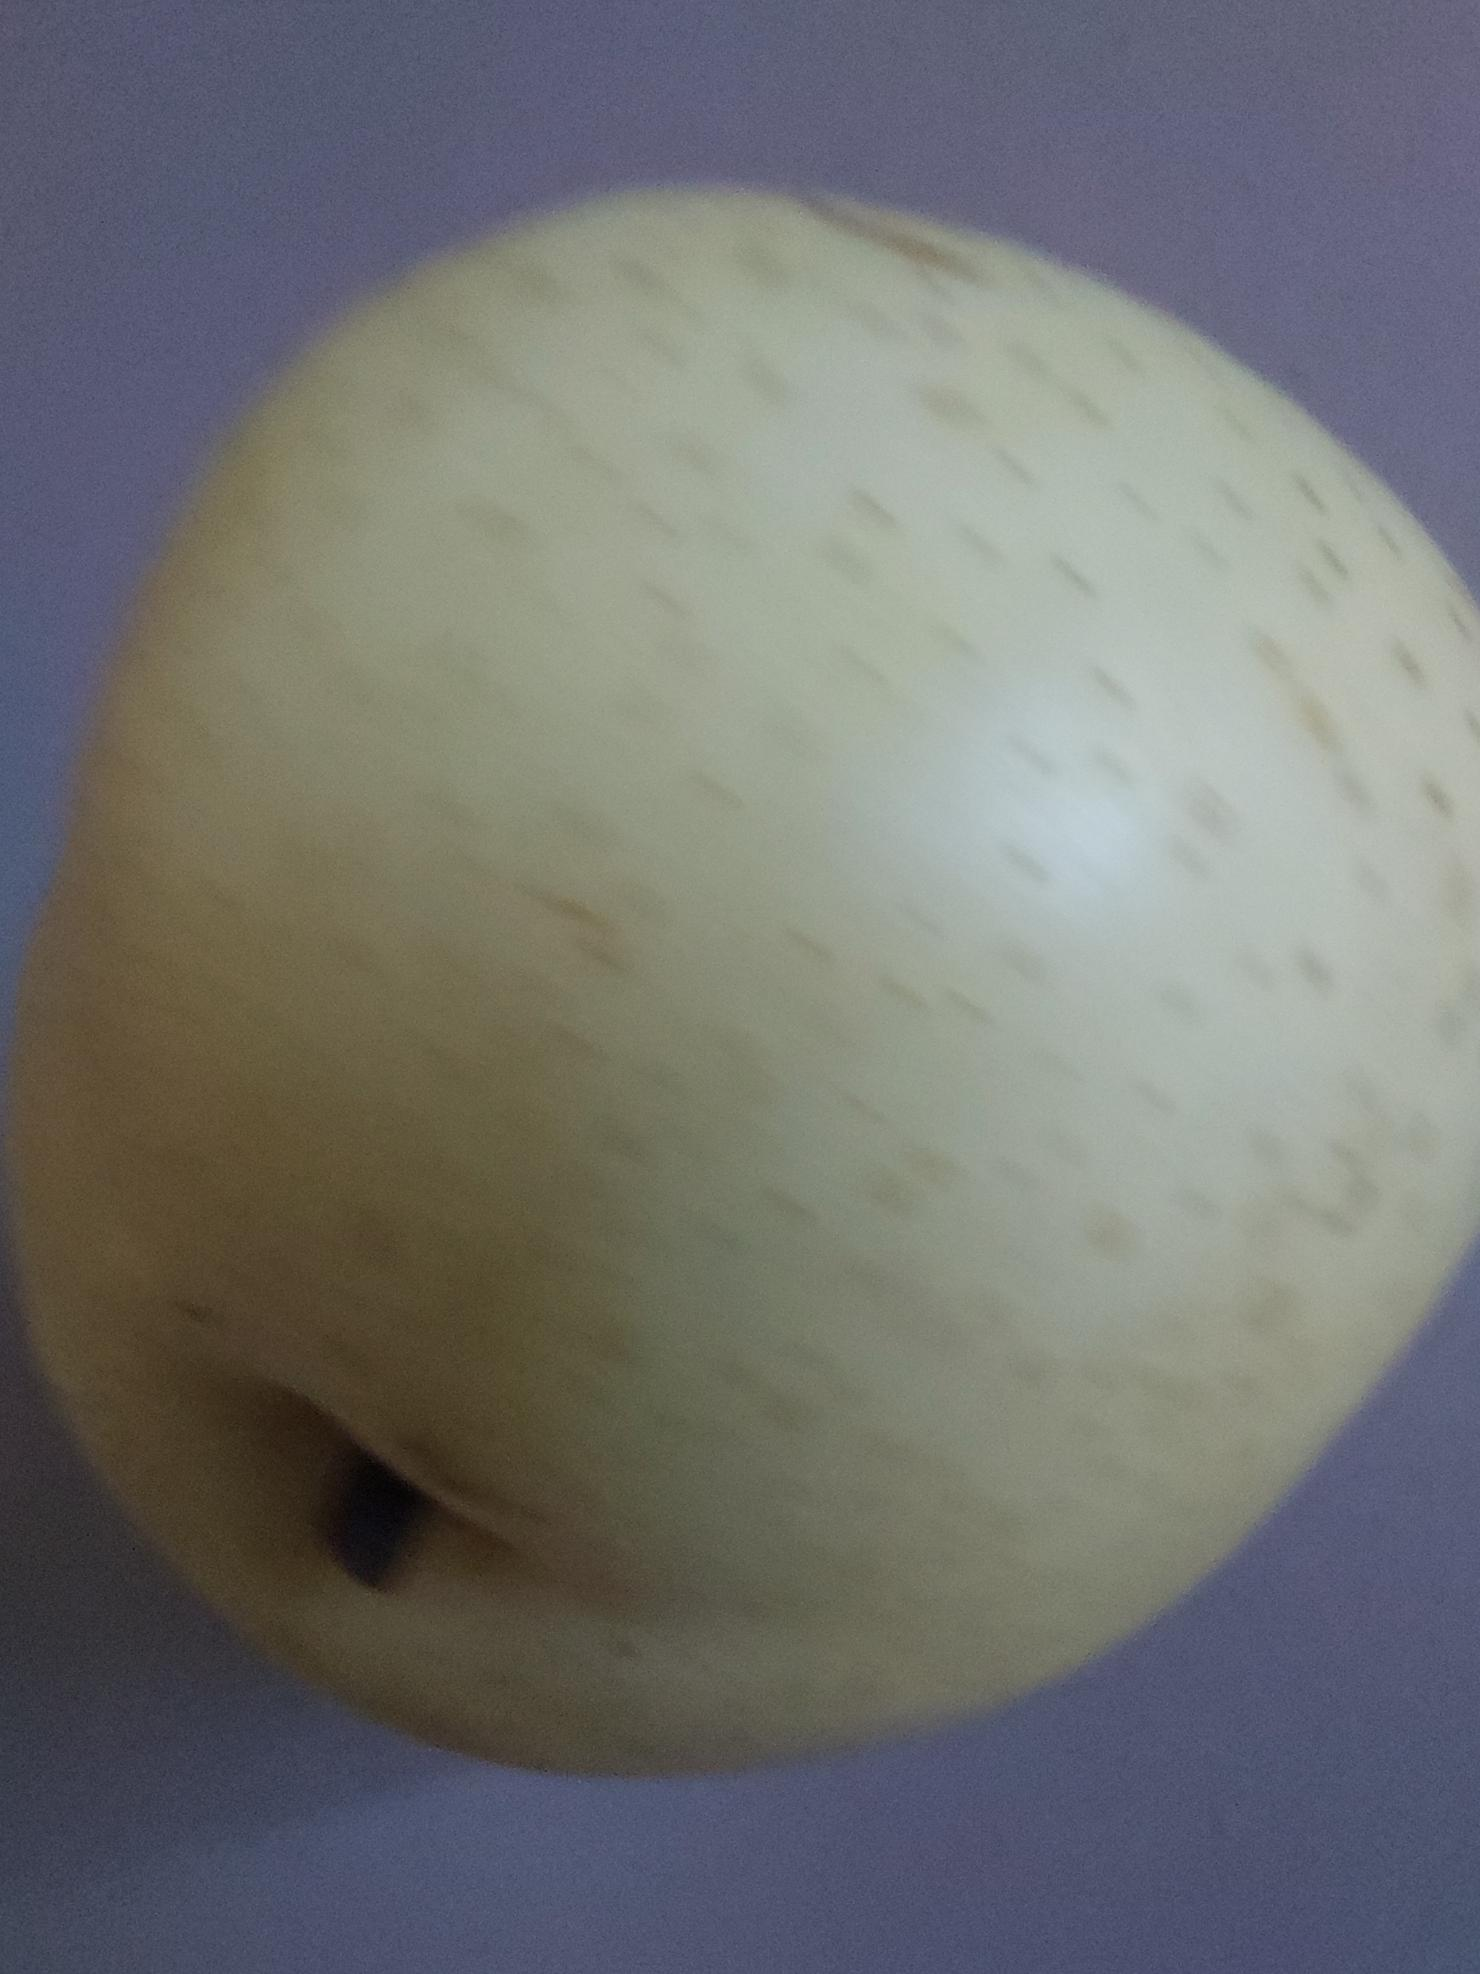Good Pear: (0, 113, 1480, 1833)
